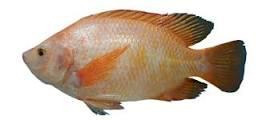Tilapia: (12, 11, 247, 120)
